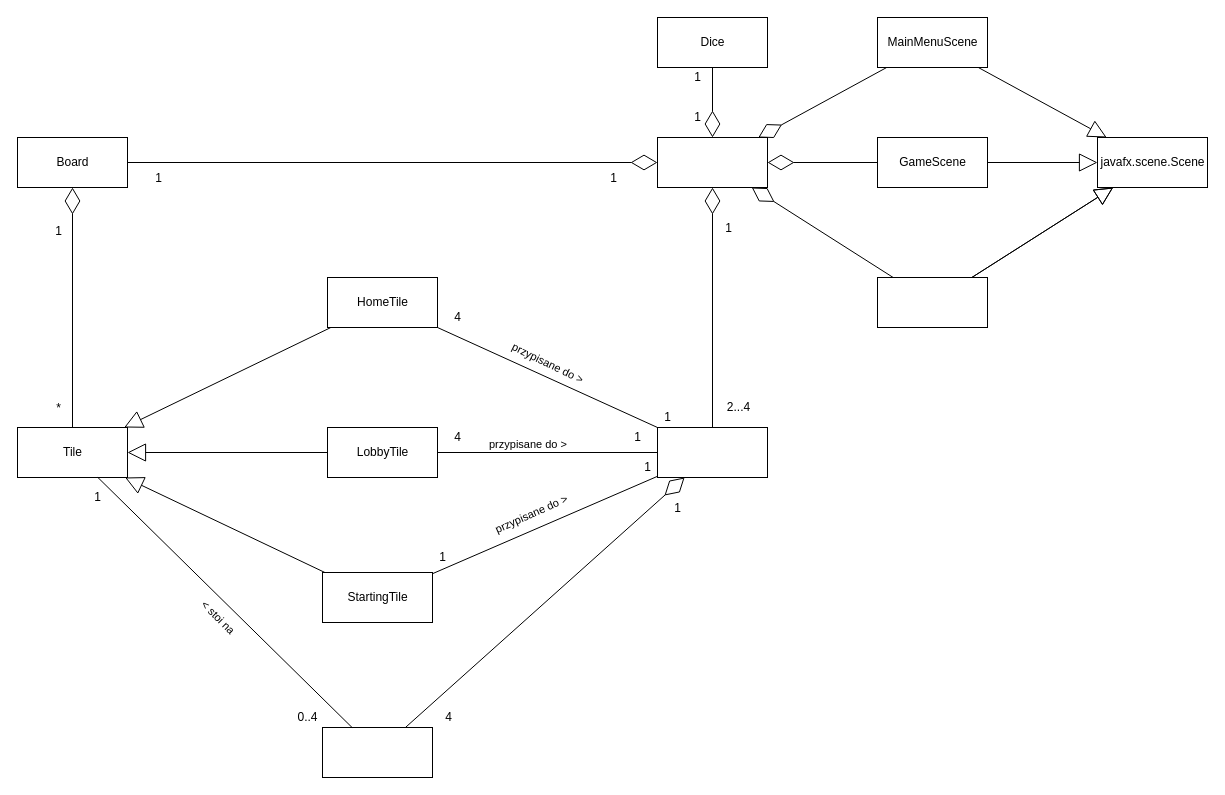
Image size: 1225x795. Some labels were removed from this diagram. Here are the shapes that lost their labels. From the top down, the centre of each, then its label:
(712,162): LudoApp
(932,302): RulesScene
(712,452): Player
(377,752): Pawn
